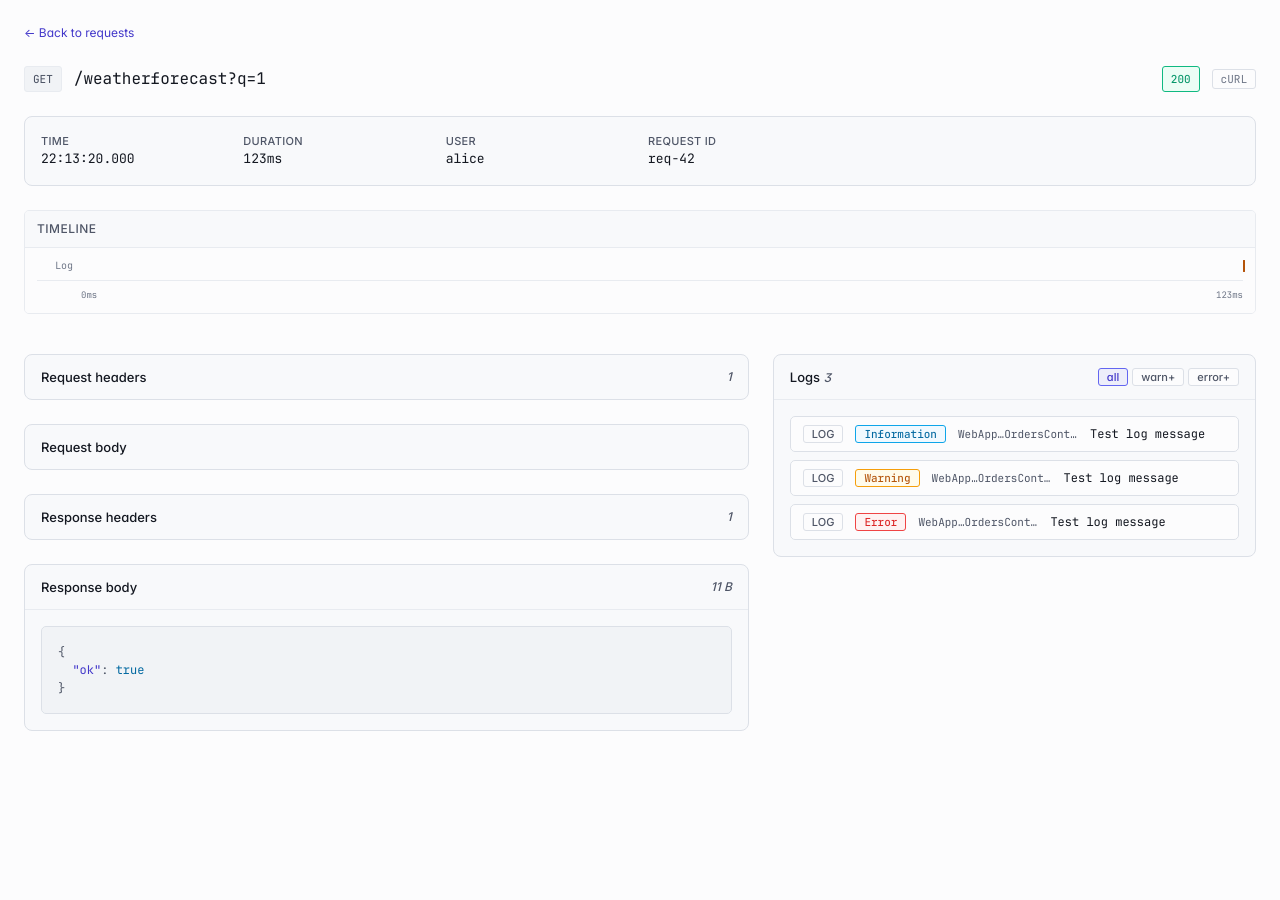
Scenario: RequestDetail — Log section › Error+ filter shows only Error and Critical entries
Click the button with test id "log-filter-error+" at {"x": 1214, "y": 377}, box x1=1188 y1=368 x2=1239 y2=386
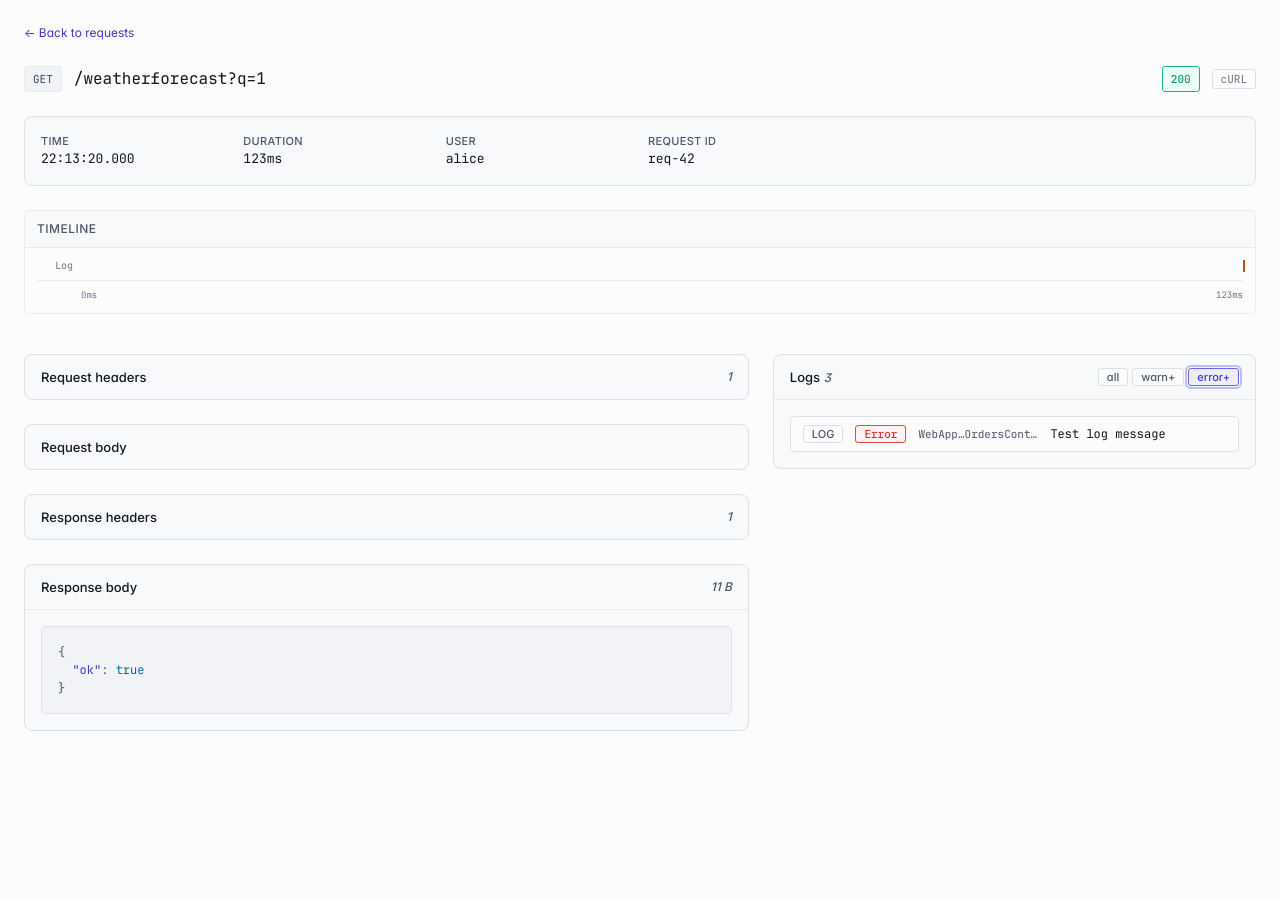
Check: the number of list items with test id "log-row" is 1, box x1=790 y1=416 x2=1239 y2=452
